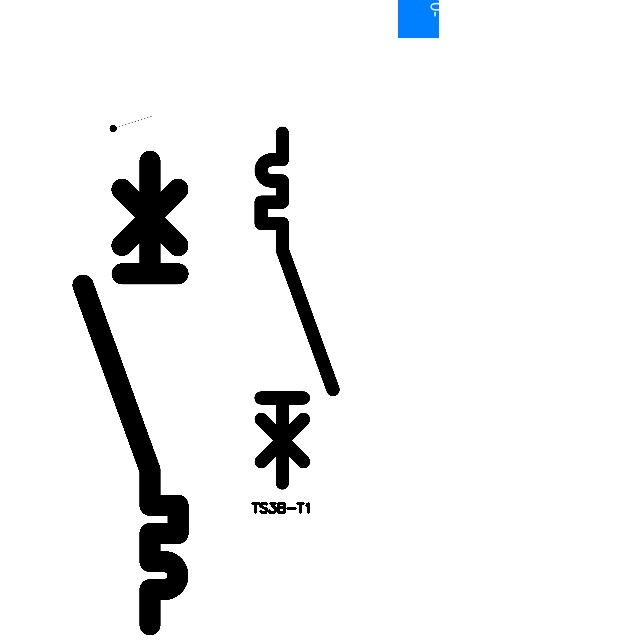interruptor_termomagnetico: (71, 149, 190, 637), (252, 124, 342, 491)
